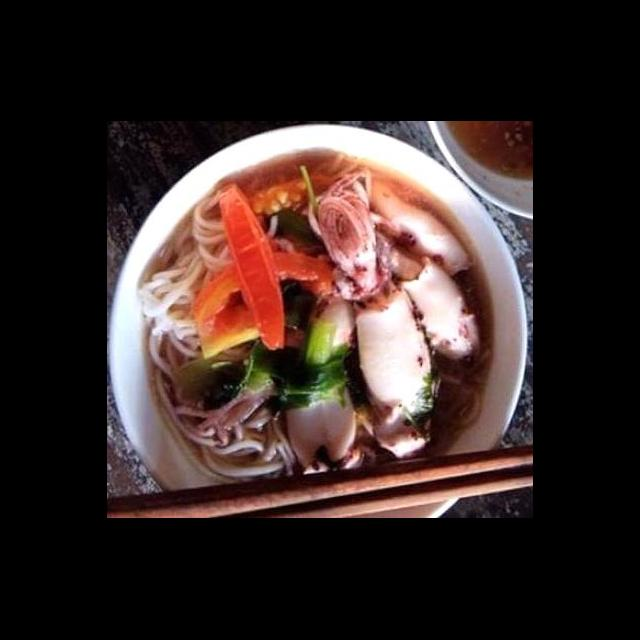bun: (135, 188, 239, 370)
muc: (307, 165, 439, 464), (277, 290, 384, 480), (361, 222, 483, 366), (351, 170, 477, 280), (171, 366, 284, 452)
